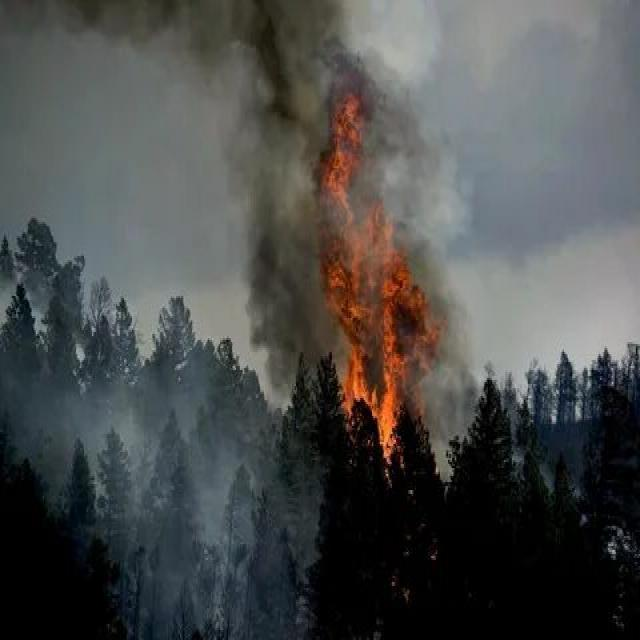Fire: (301, 170, 462, 494)
Smoke: (9, 2, 296, 316), (436, 0, 640, 338)
